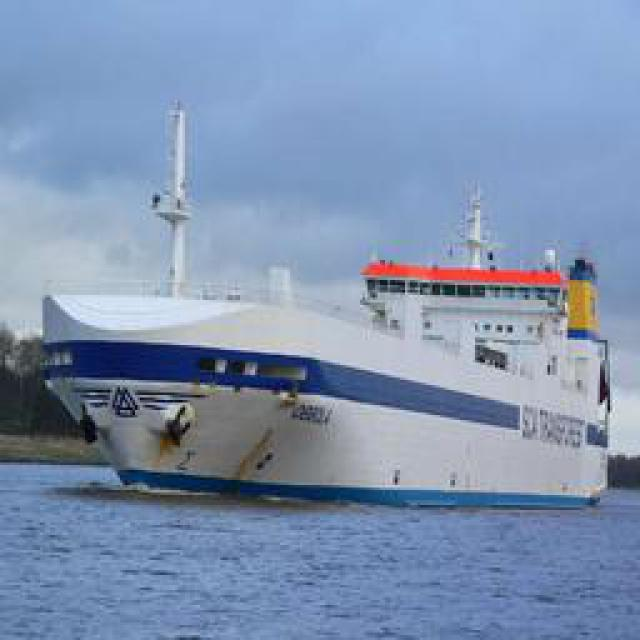Ship: (39, 151, 612, 506)
